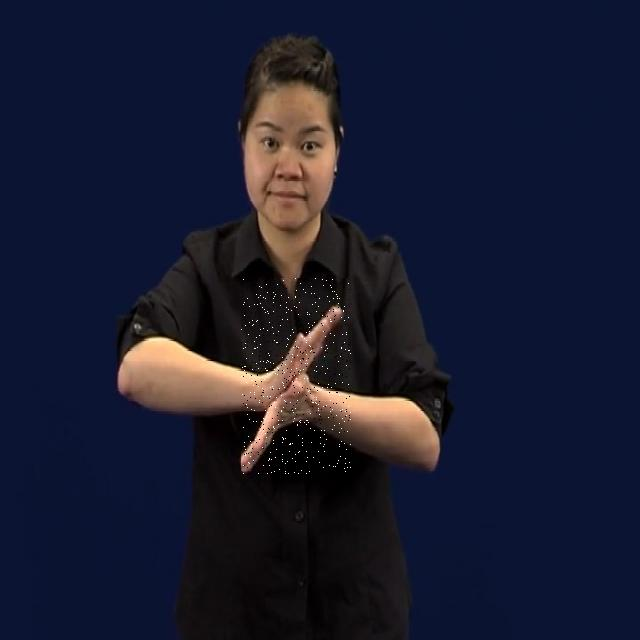cheese: (242, 278, 352, 474)
